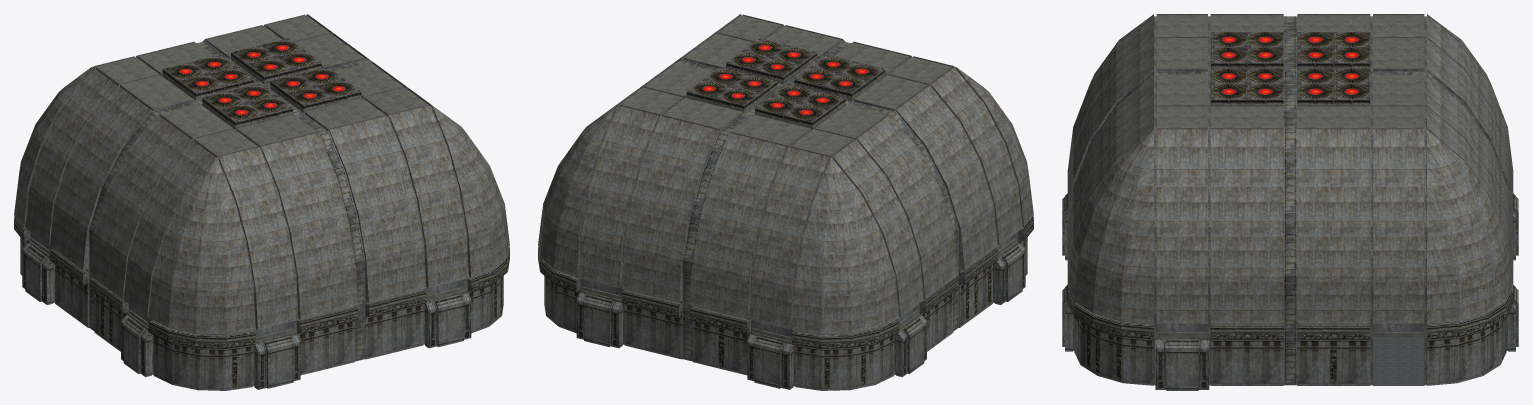
File: poi_all_impl_bunker_abandoned_s01_r29_generator_mesh.fbx
3 renders of one model, left to right at view 1: azimuth 30°, elevation 25°; view 2: azimuth 150°, elevation 25°; view 3: azimuth 270°, elevation 25°, orthographic. The views are drawn at different scales.
Visible parts, largest first — view 1: mesh_node; view 2: mesh_node; view 3: mesh_node.
Boxes of the visible parts, bbox=[...] form: mesh_node: bbox=[14, 14, 509, 390]; mesh_node: bbox=[538, 14, 1033, 390]; mesh_node: bbox=[1062, 14, 1518, 390].
Size of the model in its own units: 33.8 by 18.7 by 33.8.
